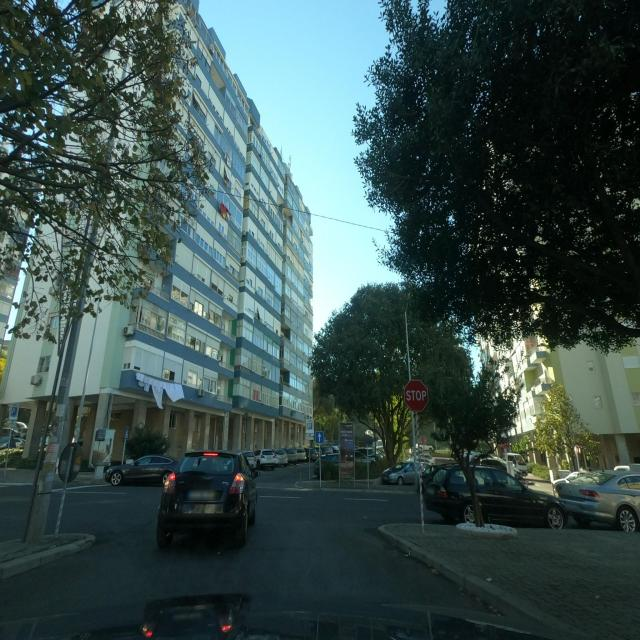car: (156, 448, 258, 548), (422, 464, 566, 530), (552, 469, 640, 533), (103, 454, 181, 486), (381, 460, 431, 486), (416, 462, 449, 493), (313, 452, 341, 481), (501, 452, 528, 478), (475, 456, 506, 470), (241, 450, 259, 474), (258, 448, 278, 469), (354, 447, 377, 463), (283, 447, 299, 465), (274, 448, 289, 467), (295, 447, 308, 462)
